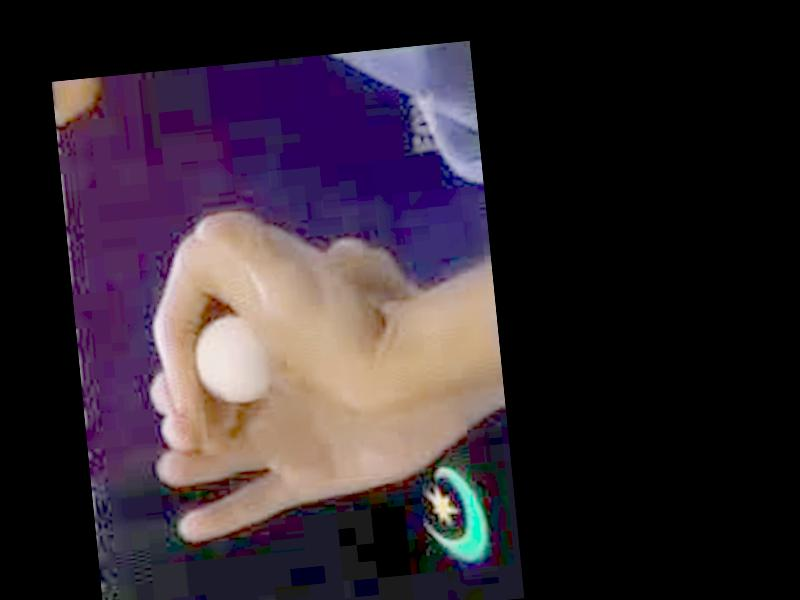Eggs: (189, 311, 267, 408)
